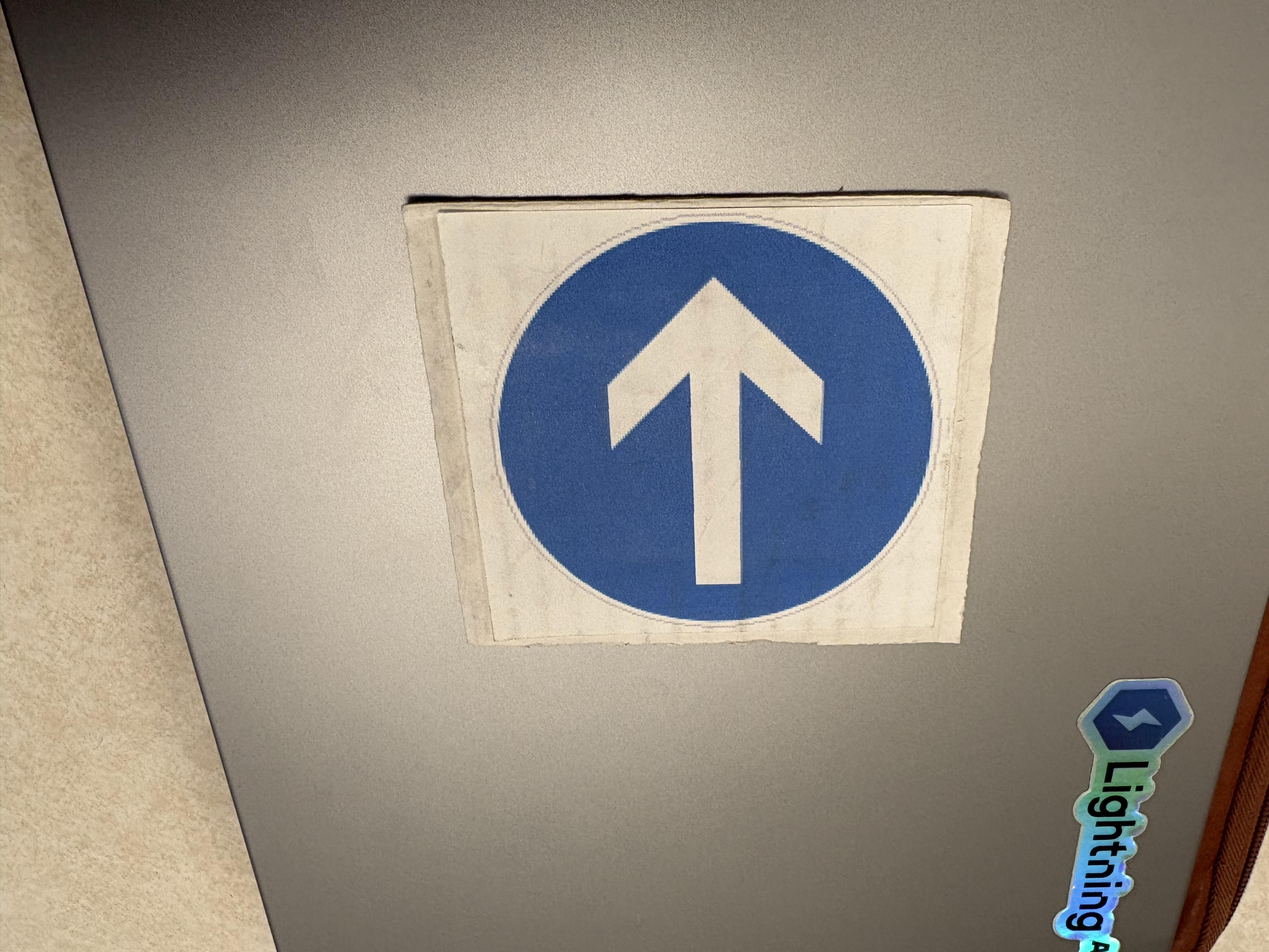Proceed Forward: (401, 199, 1010, 655)
